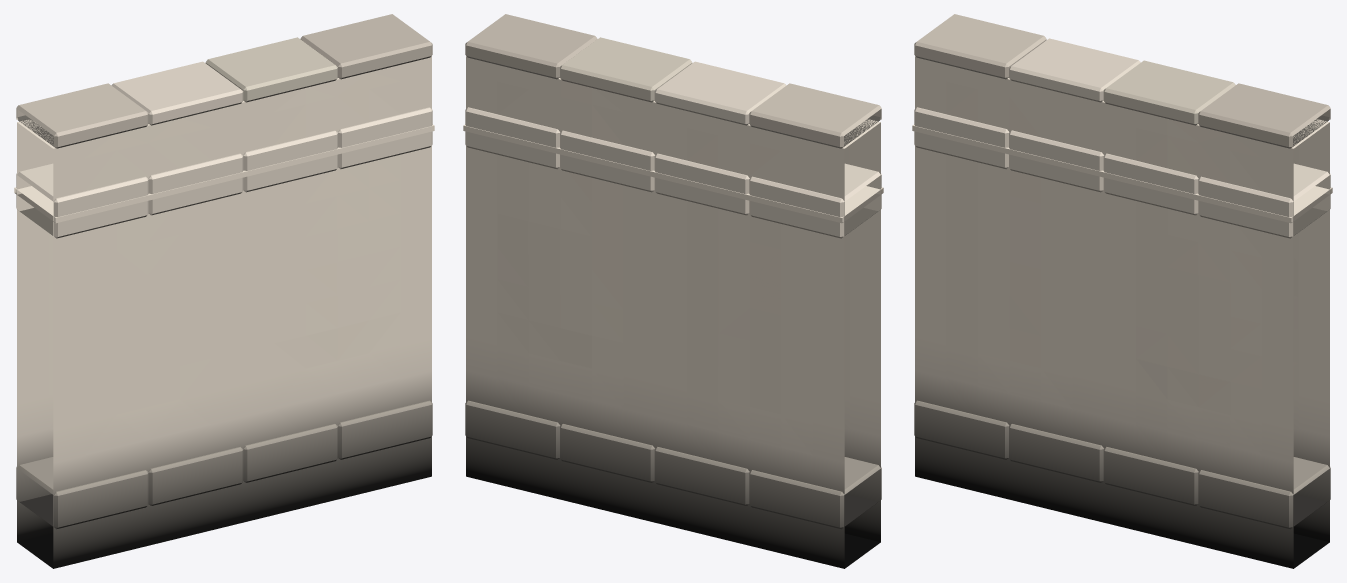
Rendered from SM_VKI_Wall_Dwarf_Plain_300_Full.fbx.
The picture shows the model from 3 angles, left to right: view 1: azimuth 30°, elevation 25°; view 2: azimuth 150°, elevation 25°; view 3: azimuth 330°, elevation 25°; orthographic projection.
Visible parts, largest first — view 1: SM_VKI_Wall_Dwarf_Plain_300_Full.001; view 2: SM_VKI_Wall_Dwarf_Plain_300_Full.001; view 3: SM_VKI_Wall_Dwarf_Plain_300_Full.001.
Part boxes in pixels (x1=…): SM_VKI_Wall_Dwarf_Plain_300_Full.001: x1=14, y1=14, x2=434, y2=568; SM_VKI_Wall_Dwarf_Plain_300_Full.001: x1=463, y1=14, x2=883, y2=568; SM_VKI_Wall_Dwarf_Plain_300_Full.001: x1=912, y1=14, x2=1332, y2=568.
Bounding box in the file's own units: 3 × 3.3 × 0.568.
